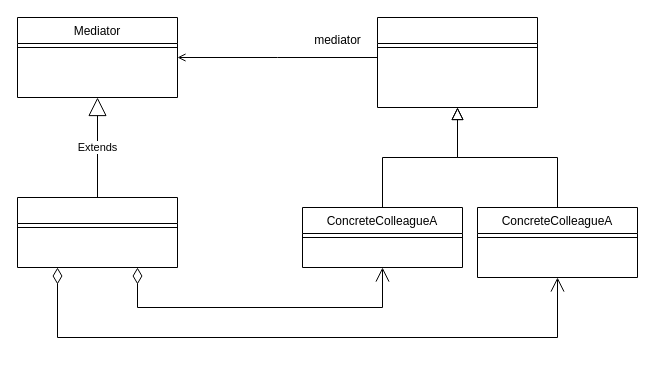
The diagram is 655 pixels wide and 372 high, and some of its shapes have lost their labels. The shapes that lost their labels are listed below. From the top down, each one's box as (x1, y1, x2, y2) in pixels, then its label:
(376, 16, 538, 108): Colleague
(16, 196, 178, 268): ConcreteMediator
